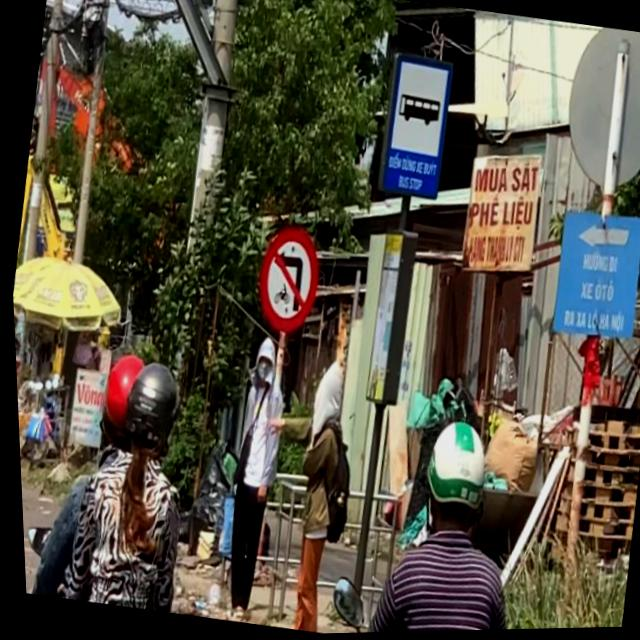Ben xe buyt: (369, 49, 458, 204)
